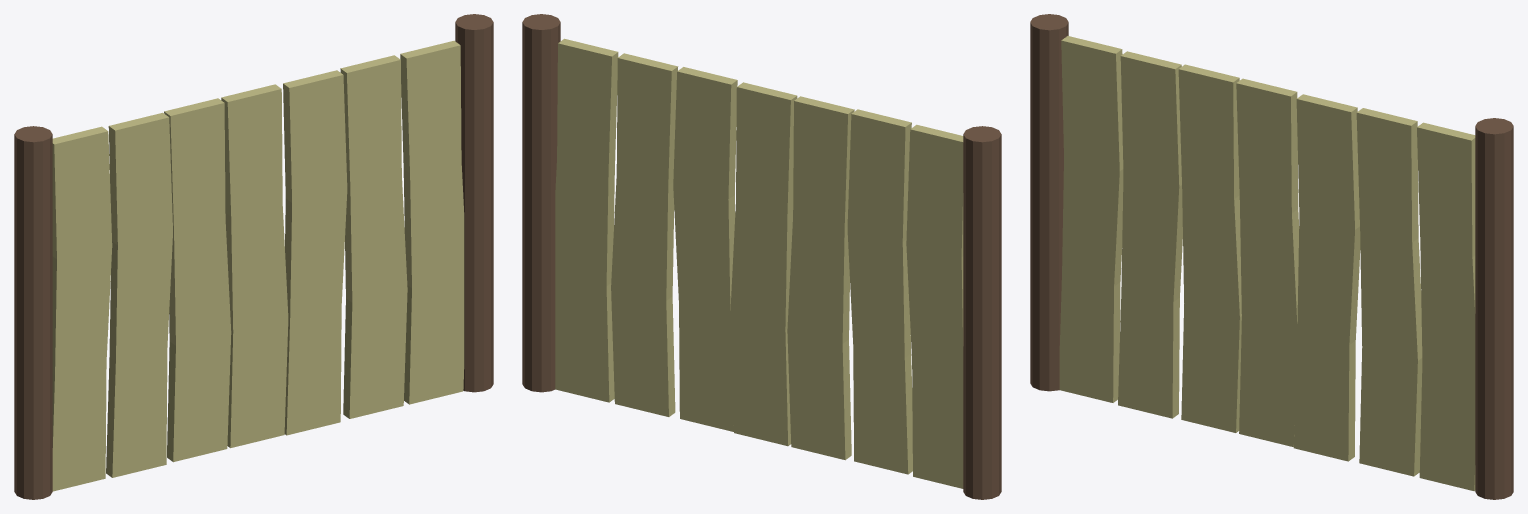
Rendered from Shack Wall base.fbx.
3 views of the same model, side by side, from view 1: azimuth 30°, elevation 25°; view 2: azimuth 150°, elevation 25°; view 3: azimuth 330°, elevation 25° (orthographic).
Parts seen in each view (by area): view 1: Cube.536, Cube.538; view 2: Cube.536, Cube.538; view 3: Cube.536, Cube.538.
Part boxes in pixels (bbox=[...]): Cube.536: bbox=[52, 40, 464, 491]; Cube.538: bbox=[14, 14, 493, 499]; Cube.536: bbox=[555, 38, 963, 488]; Cube.538: bbox=[522, 14, 1001, 499]; Cube.536: bbox=[1059, 36, 1475, 491]; Cube.538: bbox=[1030, 14, 1513, 499].
Size of the model in its own units: 4.29 by 3.13 by 0.3.
